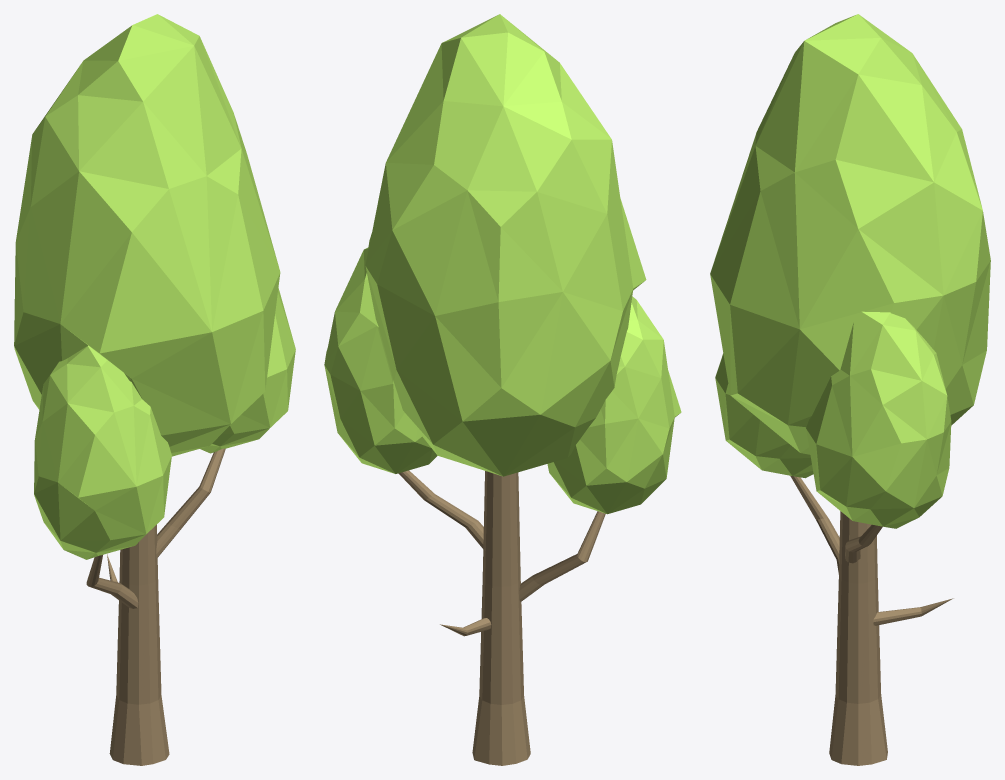
The model's file is more tree2.fbx.
3 views of the same model, side by side, from view 1: azimuth 30°, elevation 25°; view 2: azimuth 150°, elevation 25°; view 3: azimuth 270°, elevation 25° (orthographic).
Parts seen in each view (by area): view 1: tree_011_light_green; view 2: tree_011_light_green; view 3: tree_011_light_green.
Part boxes in pixels (x1,y1,x2,y2): tree_011_light_green: (14,14,295,765); tree_011_light_green: (324,14,681,765); tree_011_light_green: (710,14,990,765).
Size of the model in its own units: 2.14 by 5.07 by 1.75.
